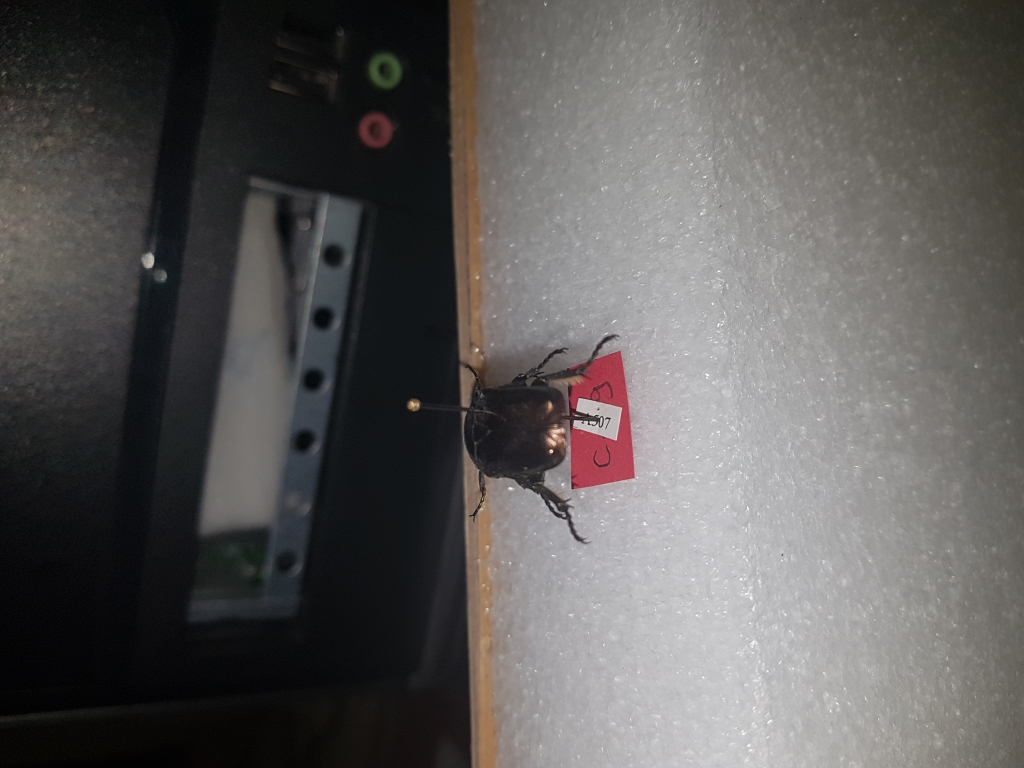Protaetia_besucheti: (441, 324, 625, 547)
